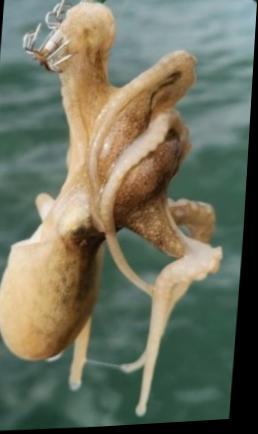Cephalopod: (0, 3, 225, 419)
